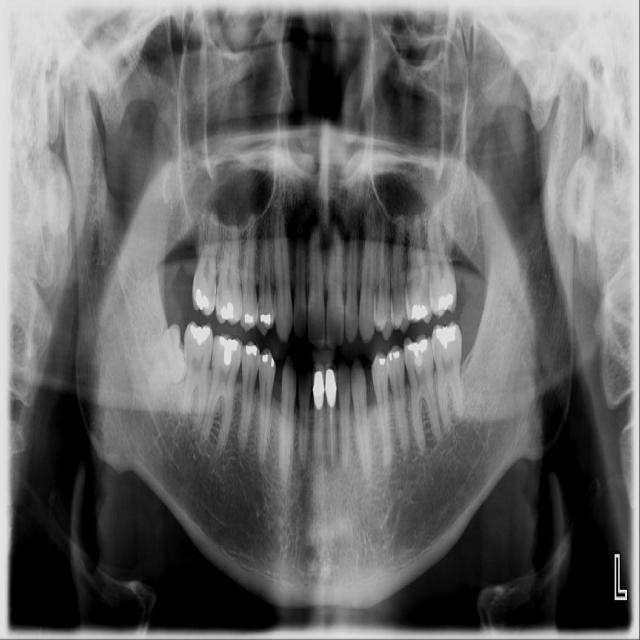Crown: (312, 363, 326, 408), (325, 363, 338, 409)
Filling: (406, 338, 428, 371), (431, 325, 458, 350), (217, 336, 239, 366), (435, 291, 455, 316), (187, 324, 211, 343), (193, 286, 212, 310), (408, 301, 428, 321), (217, 301, 238, 320), (243, 344, 260, 359), (258, 312, 273, 329), (259, 353, 276, 367), (243, 311, 257, 328), (388, 350, 401, 366), (377, 356, 387, 369)
Periapical lesion: (236, 434, 248, 457), (398, 445, 412, 464), (297, 453, 308, 472), (327, 456, 338, 473)
Root Canal Treatment: (330, 408, 333, 465)
impacted tooth: (133, 326, 187, 390)
